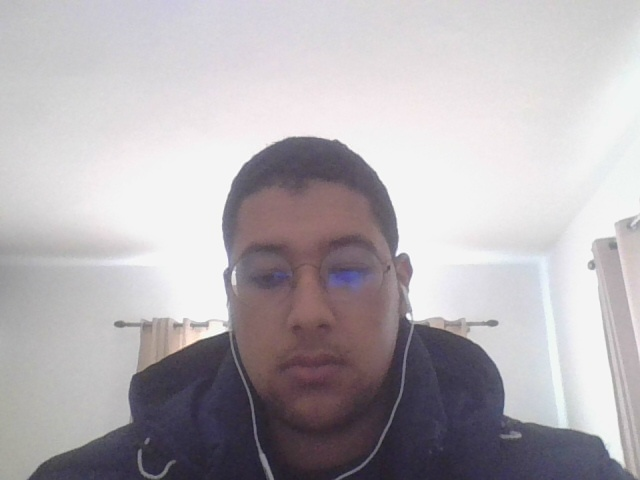real: (199, 114, 430, 442)
